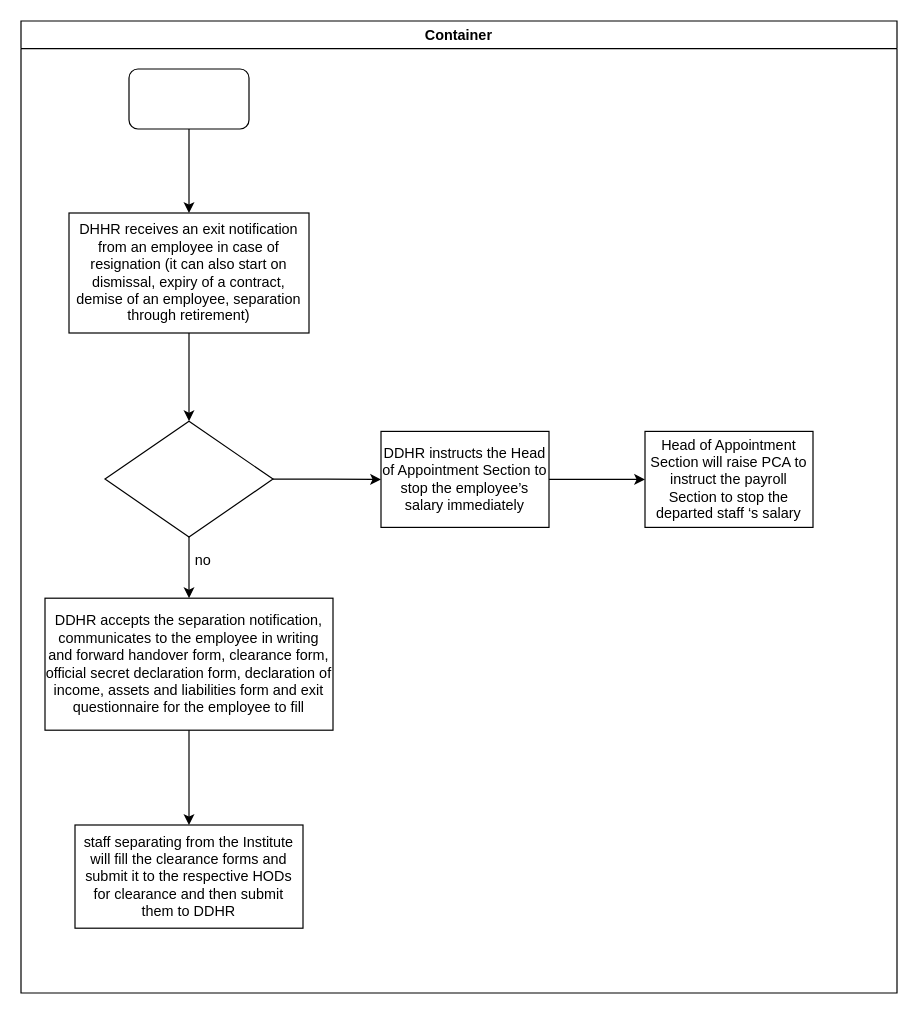
The diagram is 918 pixels wide and 1014 high, and some of its shapes have lost their labels. Each missing label, with the centre of its shape:
separation as a result of demise?: (x=188, y=478)
Start: (x=188, y=98)
